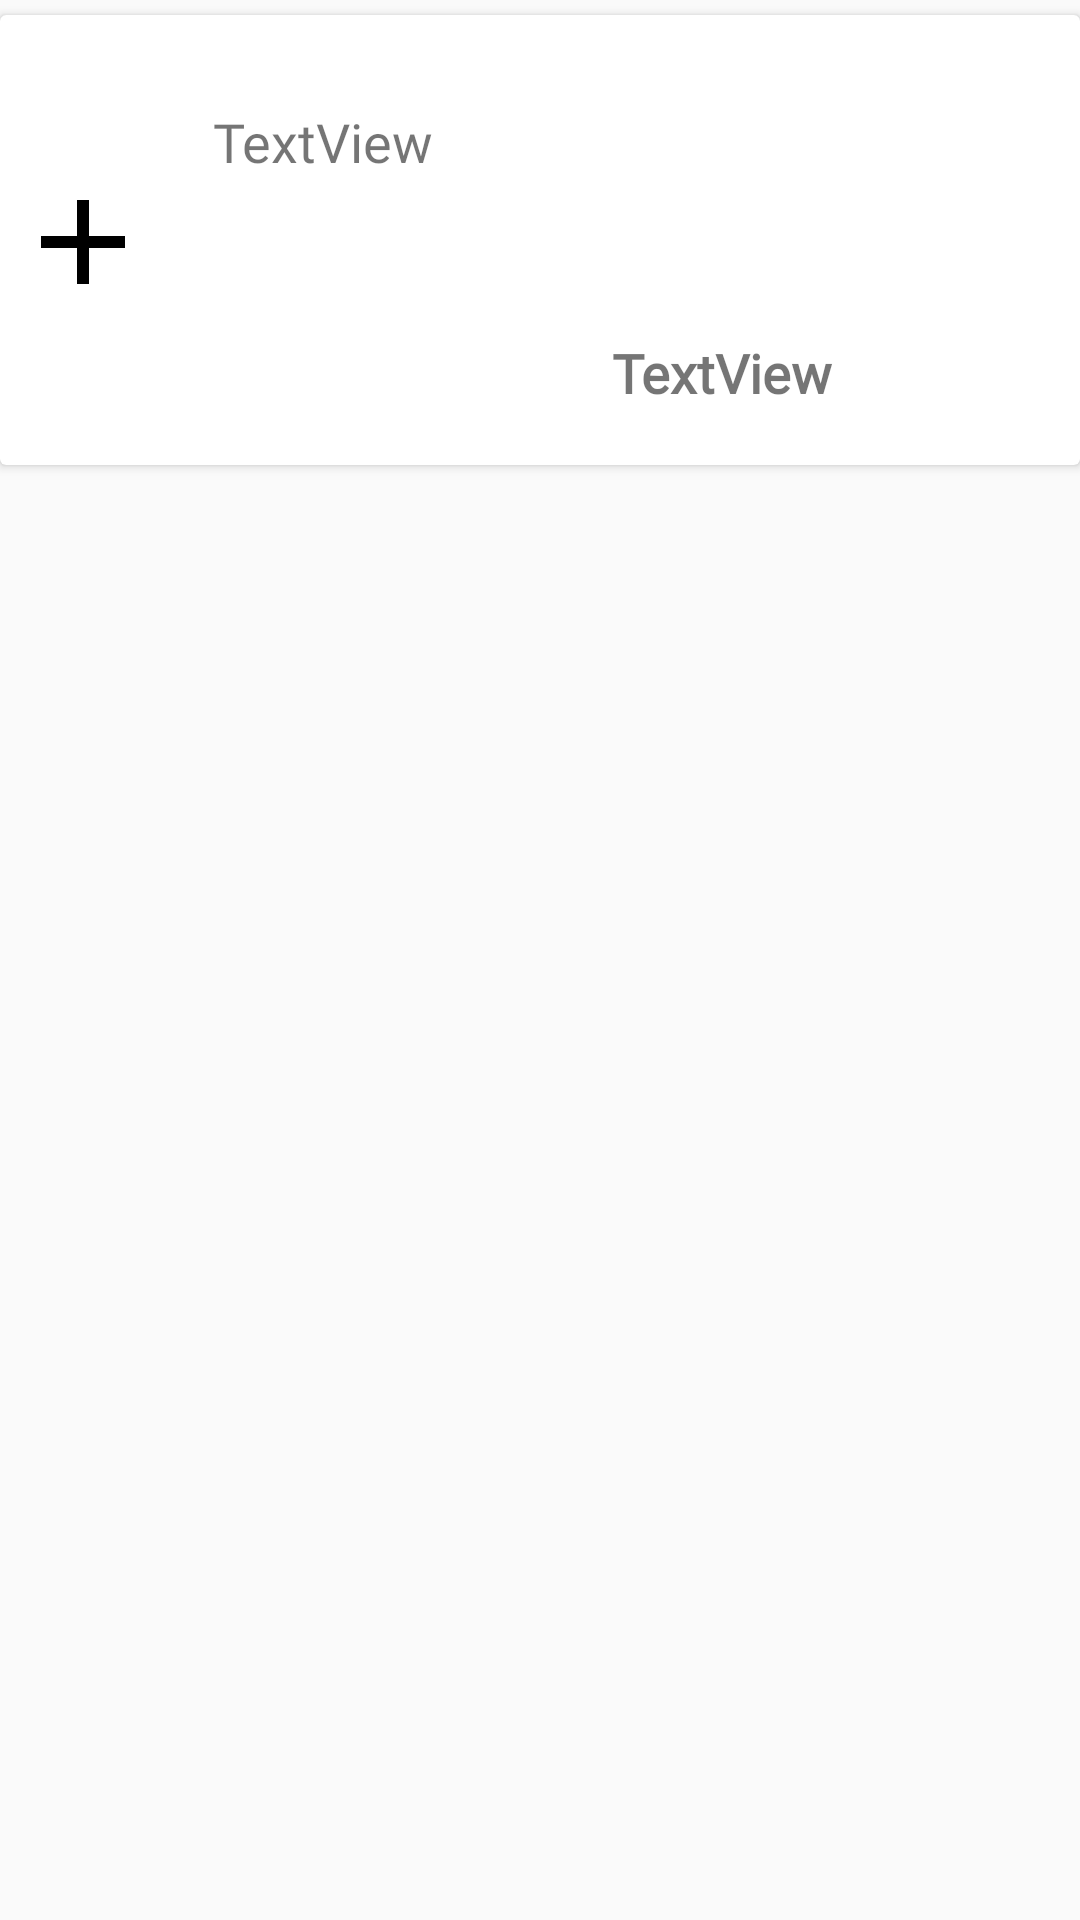

Named icons in this screenshot (1080 × 1920) and their centers, [x,y]:
add coupon: [83,242]
